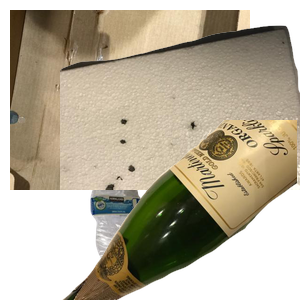cardboard: (10, 10, 250, 190)
glass: (60, 120, 300, 300)
plastic: (88, 158, 229, 300)
trash: (60, 23, 300, 203)
